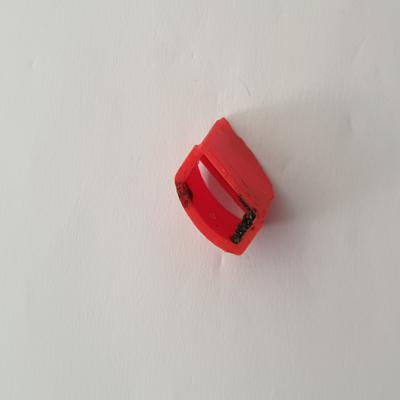plastic: (170, 111, 282, 264)
